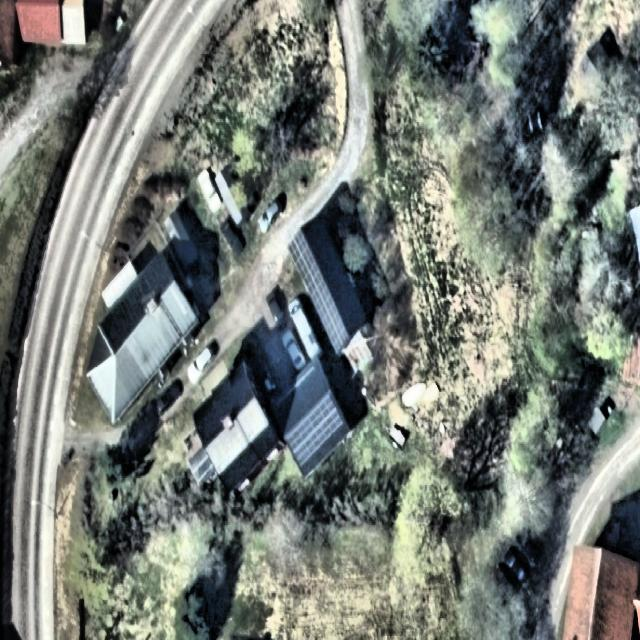roof_pv: (286, 392, 342, 471), (287, 228, 319, 284), (304, 270, 336, 320), (320, 308, 354, 351)
